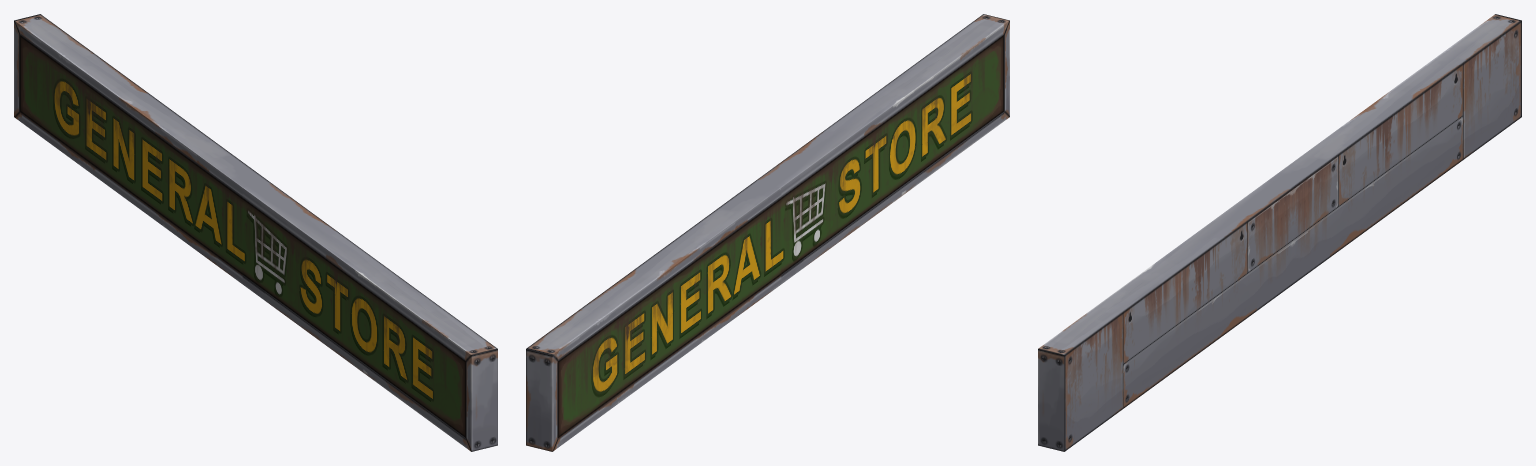
File: signage01_6m.fbx
The picture shows the model from 3 angles, left to right: view 1: azimuth 30°, elevation 25°; view 2: azimuth 150°, elevation 25°; view 3: azimuth 330°, elevation 25°; orthographic projection.
Visible parts, largest first — view 1: signage01_6m; view 2: signage01_6m; view 3: signage01_6m.
Boxes of the visible parts, left/top/right/bottom form: signage01_6m: left=14, top=14, right=497, bottom=451; signage01_6m: left=526, top=14, right=1009, bottom=451; signage01_6m: left=1038, top=14, right=1521, bottom=451.
Bounding box in the file's own units: 20 × 70 × 600.
